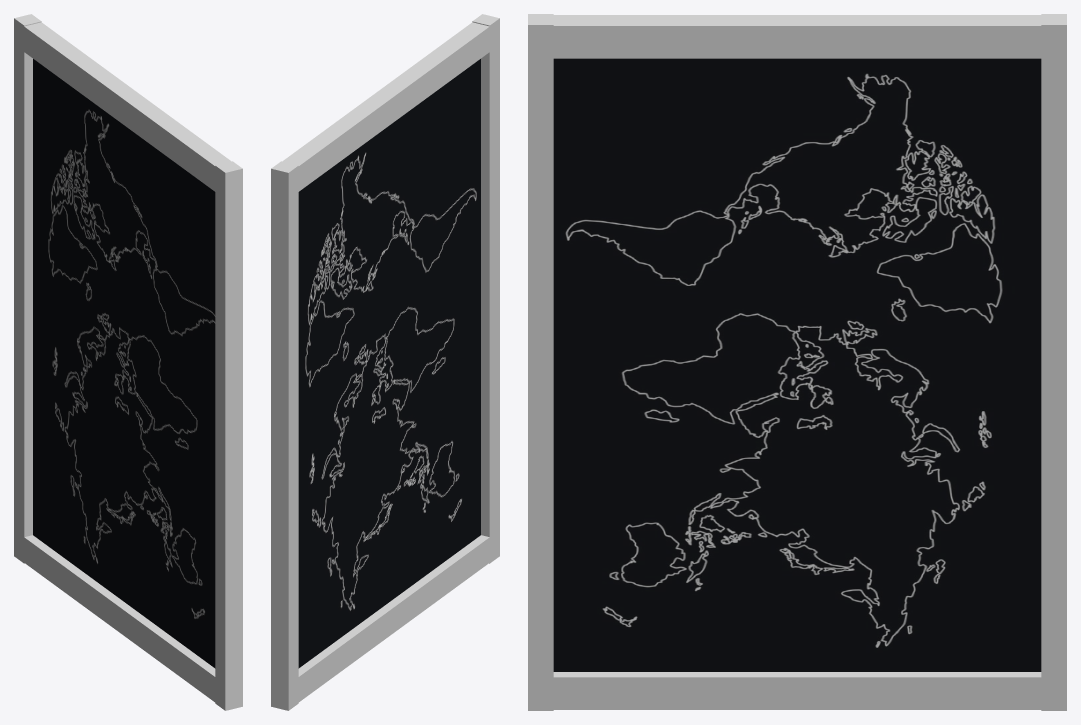
The model's file is map(1).fbx.
3 renders of one model, left to right at view 1: azimuth 30°, elevation 25°; view 2: azimuth 150°, elevation 25°; view 3: azimuth 270°, elevation 25°, orthographic. The views are drawn at different scales.
Visible parts, largest first — view 1: Cube.001; view 2: Cube.001; view 3: Cube.001.
Boxes of the visible parts, bbox=[...] form: Cube.001: bbox=[14, 14, 242, 710]; Cube.001: bbox=[271, 14, 499, 710]; Cube.001: bbox=[528, 14, 1066, 710].
Size of the model in its own units: 20 by 590 by 420.
Materials: 3 (1 with a texture image).
